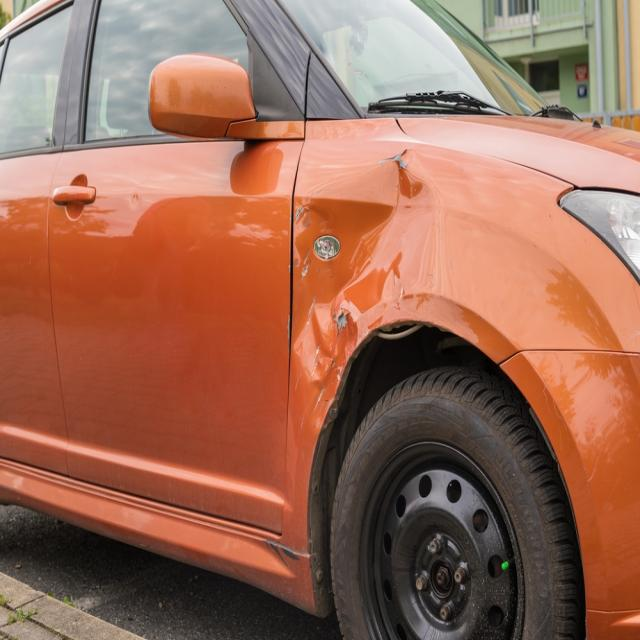Cabossage: (293, 194, 404, 420)
Dechirure: (378, 145, 413, 173)
Rayure: (288, 195, 351, 424)
